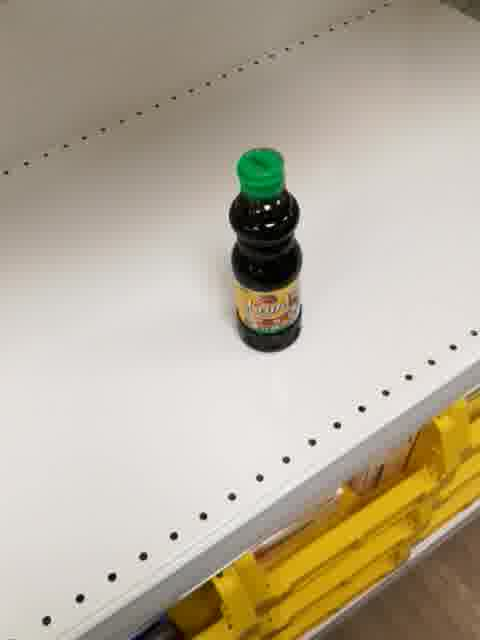cookingoil: (226, 144, 305, 354)
